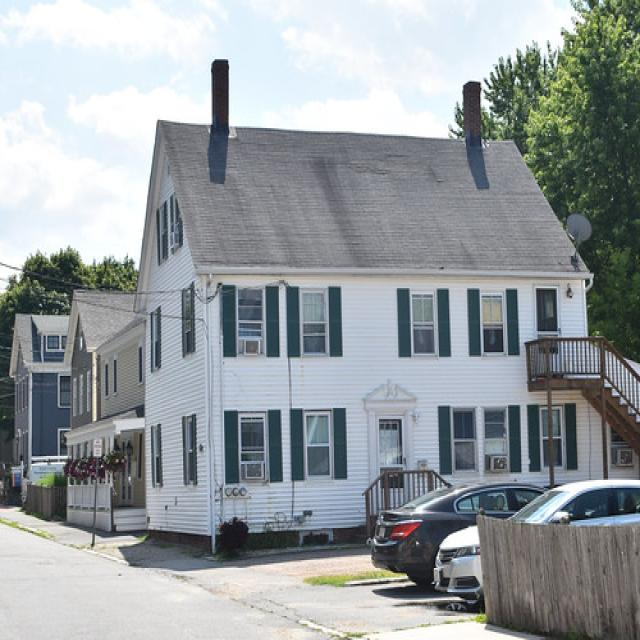building: (135, 54, 619, 570), (61, 288, 150, 534), (8, 310, 78, 514)
